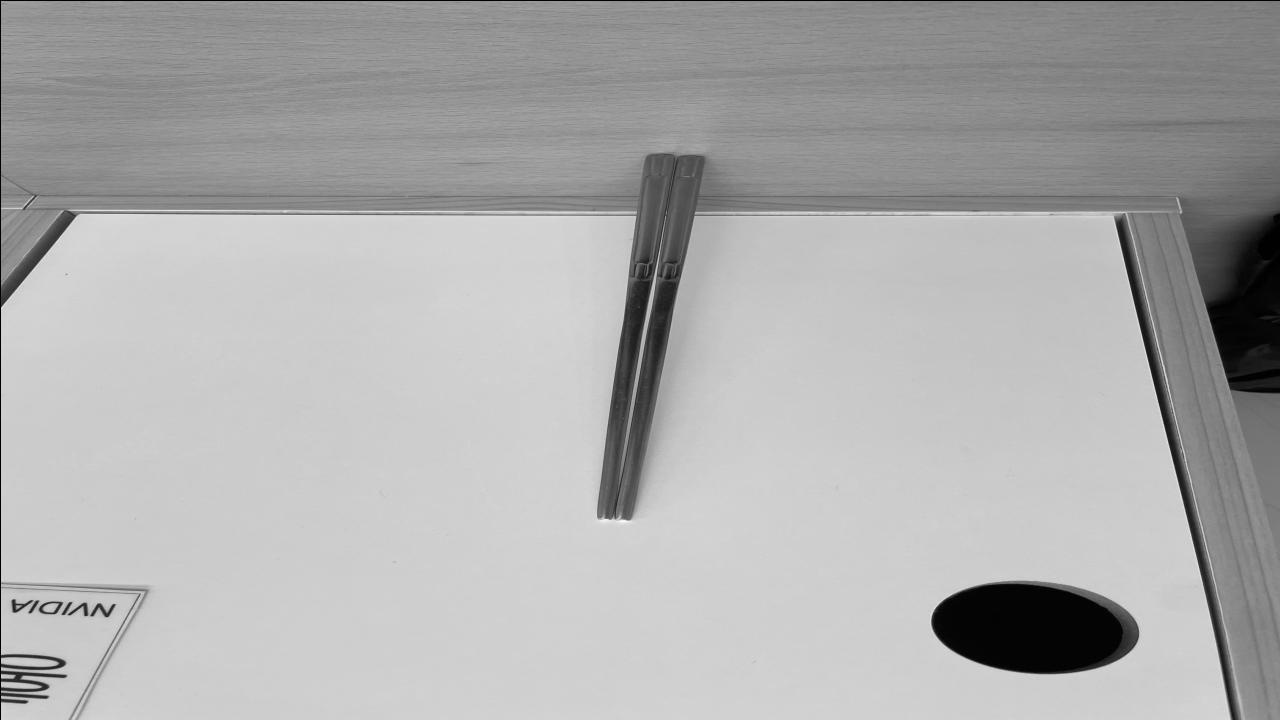chopstick: (590, 155, 704, 520)
